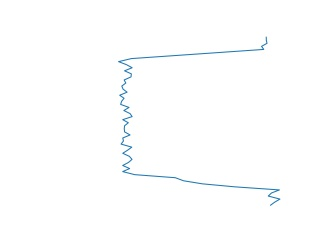distributaryChannelFill: (114, 35, 285, 210)
